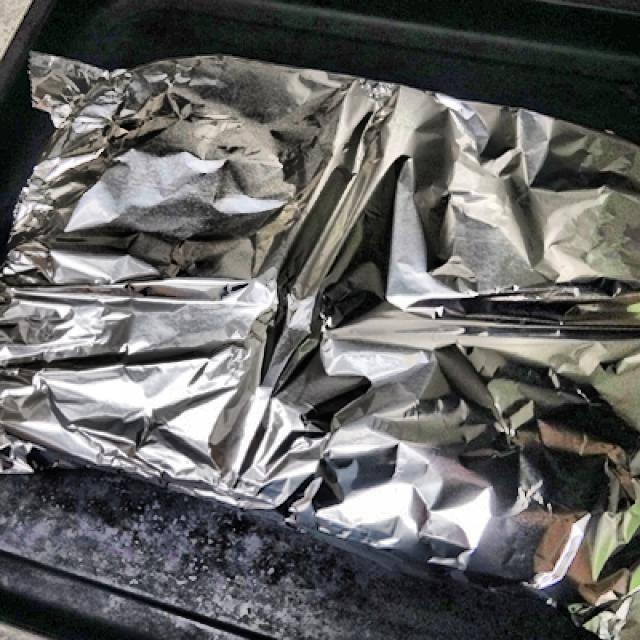Foil: (0, 32, 640, 640)
